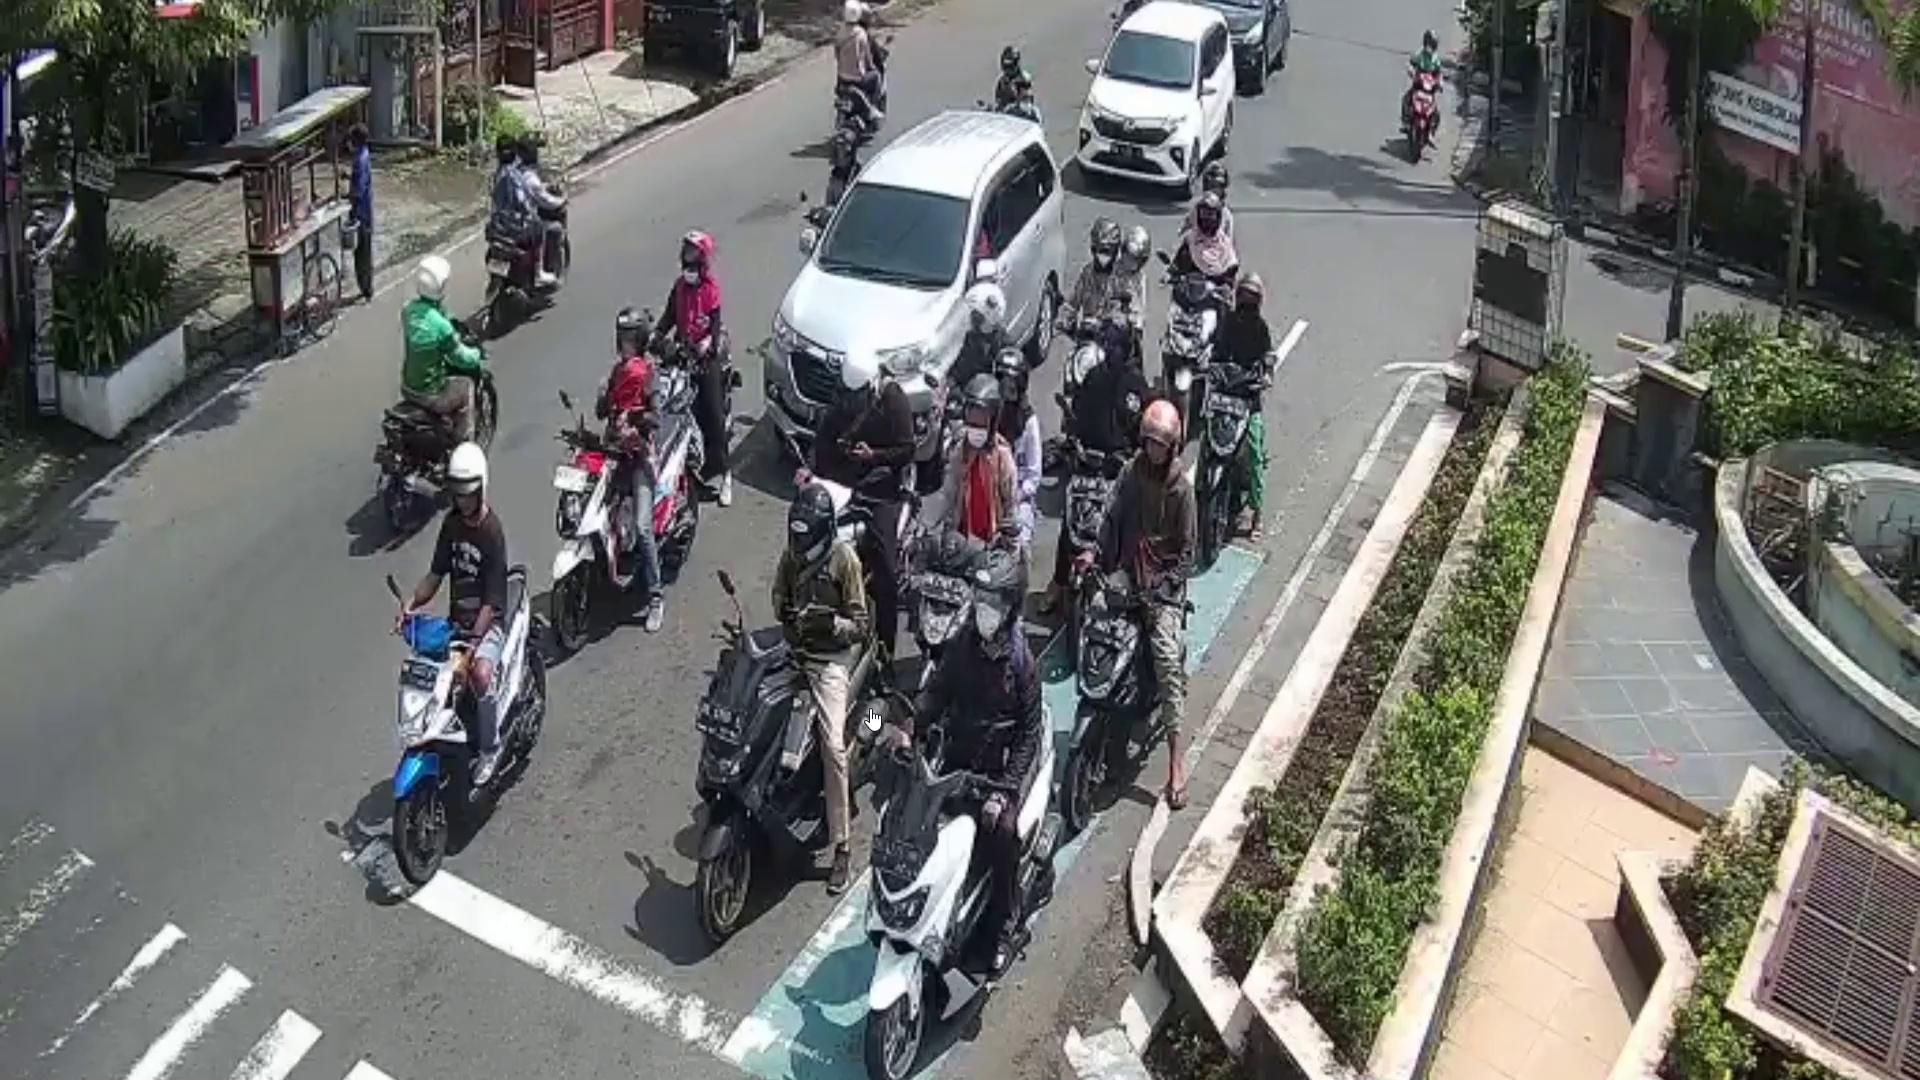car: (766, 107, 1068, 460), (1073, 1, 1236, 198), (1209, 0, 1292, 88)
motorbike: (868, 694, 1060, 1080), (699, 607, 885, 943), (389, 560, 546, 890), (545, 405, 692, 650), (1077, 579, 1195, 825), (381, 323, 498, 537), (1191, 359, 1254, 562), (484, 177, 571, 315), (1404, 67, 1441, 164)
